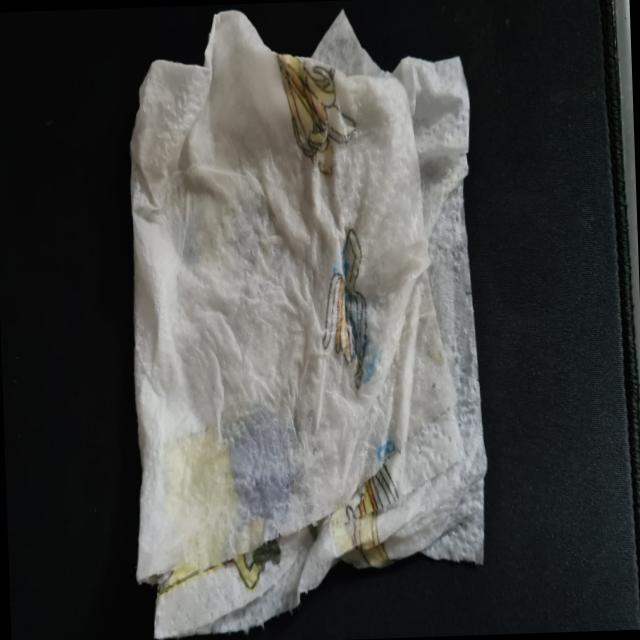organic waste: (113, 0, 493, 640)
